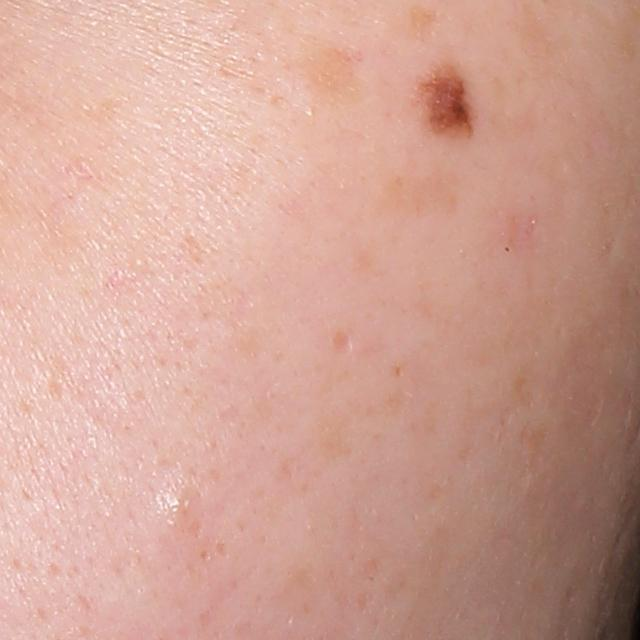atrophic_scar: (332, 329, 355, 359)
comedo: (156, 478, 211, 533)
melasma: (290, 42, 378, 104)
nevus: (424, 68, 472, 144)
